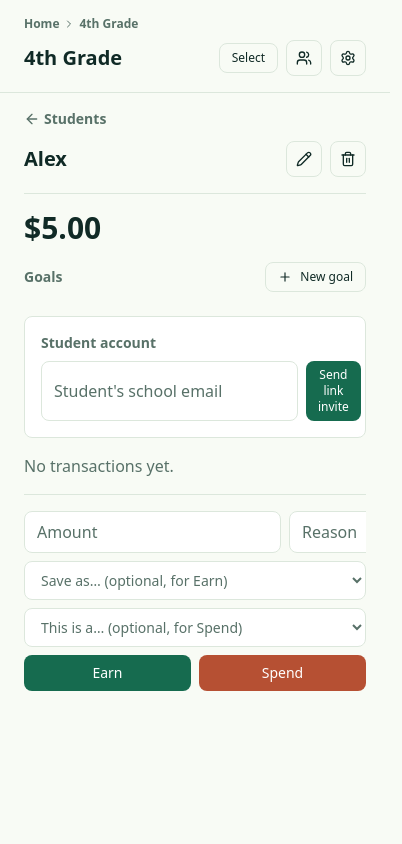
ClassroomDetailPage › clicking the mobile "Students" back link clears the selection and returns to the roster
Expected: the button "Earn" is shown, [24,655,191,691]
Step 1. Click the button "Students" → click(65, 119), box [24,109,106,129]
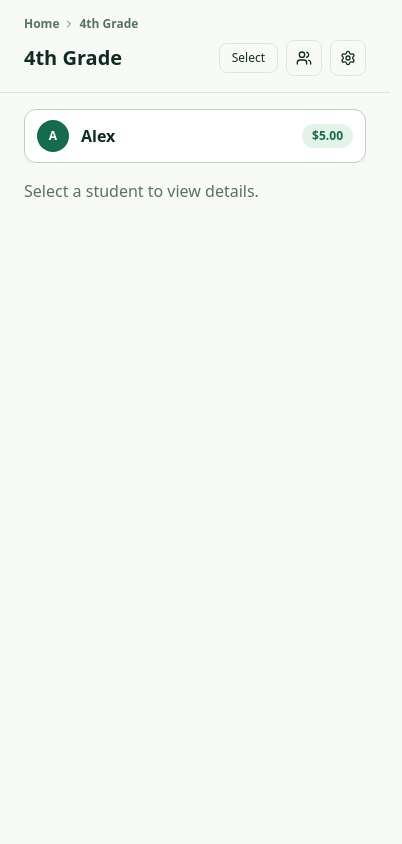
Result: the text "Select a student to view details." is shown at [24,180,259,202]
